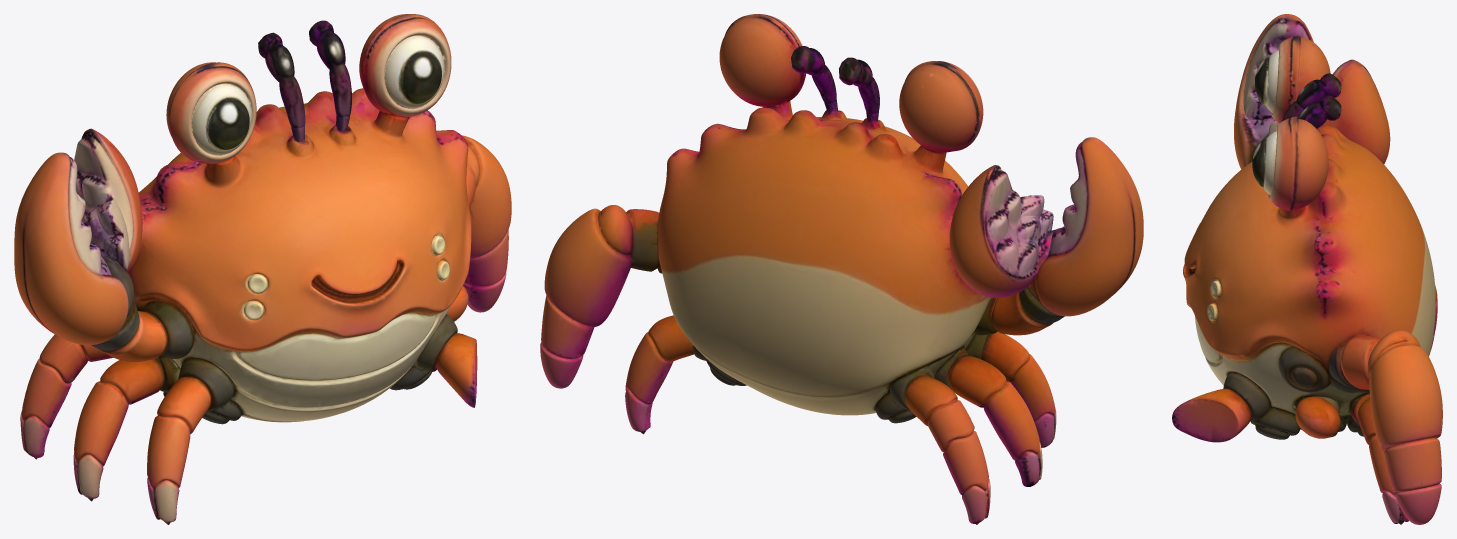
File: claudecode-crab.glb
The picture shows the model from 3 angles, left to right: view 1: azimuth 30°, elevation 25°; view 2: azimuth 150°, elevation 25°; view 3: azimuth 270°, elevation 25°; orthographic projection. The views are drawn at different scales.
Visible parts, largest first — view 1: node_0; view 2: node_0; view 3: node_0.
Part boxes in pixels (bbox=[...]): node_0: bbox=[14, 14, 511, 524]; node_0: bbox=[540, 14, 1143, 524]; node_0: bbox=[1172, 14, 1442, 524].
Bounding box in the file's own units: 1.01 × 0.7319 × 0.4784.
Materials: 1 (1 with a texture image).
